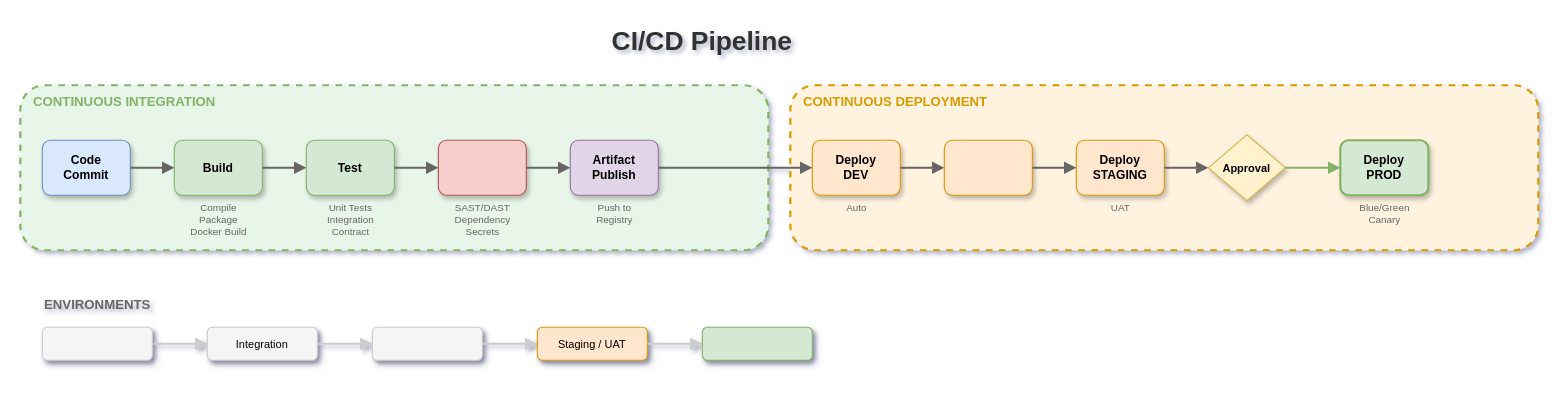
This 1564x394 diagram has some shape labels left out. The centre of each missing label's shape, as x and y in pixels:
"Development" belongs at point 98,345.
"Production" belongs at point 758,345.
"QA / Test" belongs at point 428,345.
"Security Scan" belongs at point 483,169.
"Smoke Tests" belongs at point 989,169.
